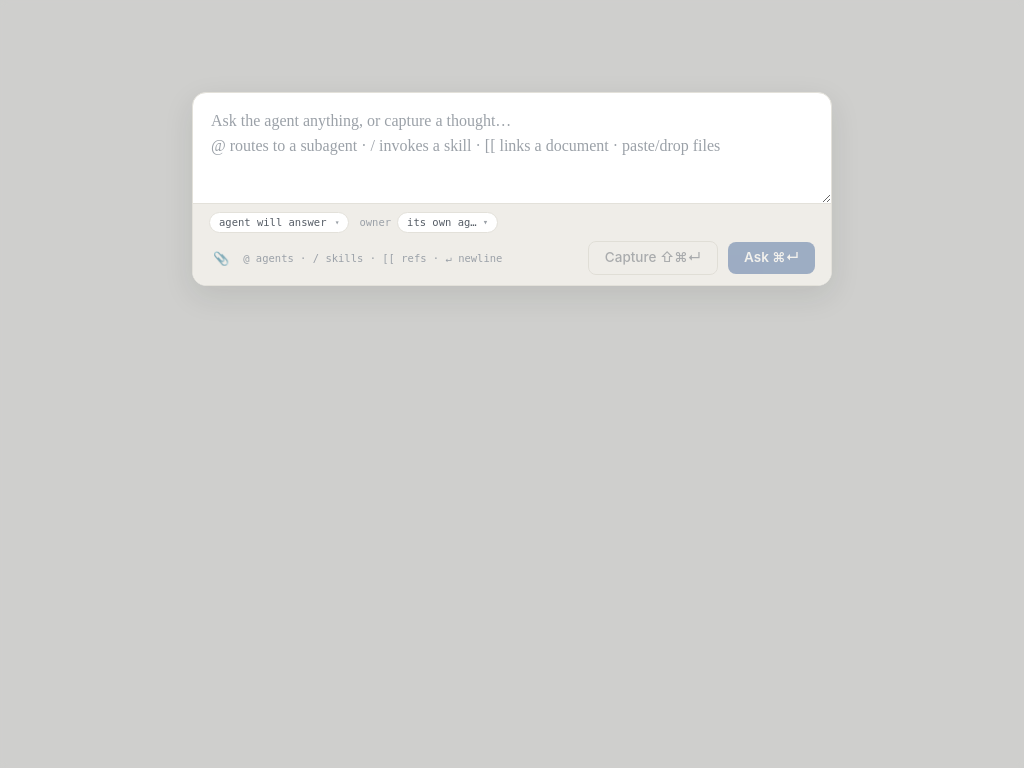
Scenario: the global composer — Ask › offers the roster's lanes, the orchestrator's first
Click the button "agent will answer ▾" at [279, 223], box [209, 212, 350, 233]
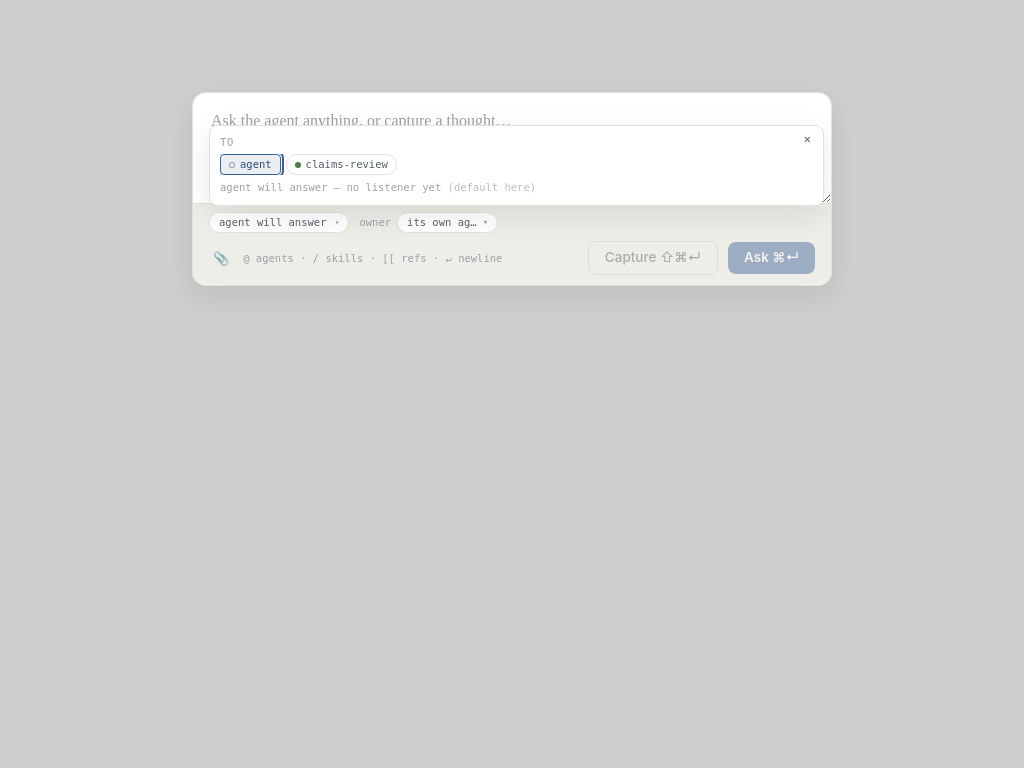
expect the button "agent" is shown: met, box [220, 154, 281, 175]
expect the button "claims-review" is shown: met, box [286, 154, 397, 175]
